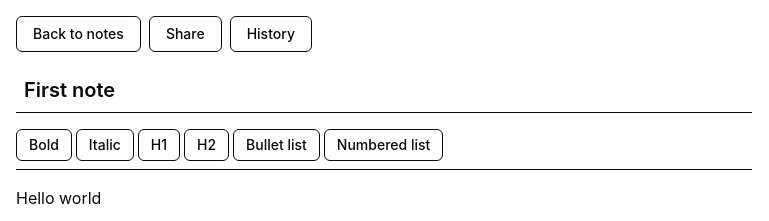
Scenario: NoteEditorPage › Status shows an error state if a save fails
This screenshot has width=769, height=221.
Type "!" into the field showing "First note" at (384, 90), box x1=16 y1=68 x2=752 y2=113
Wait 2500 ms
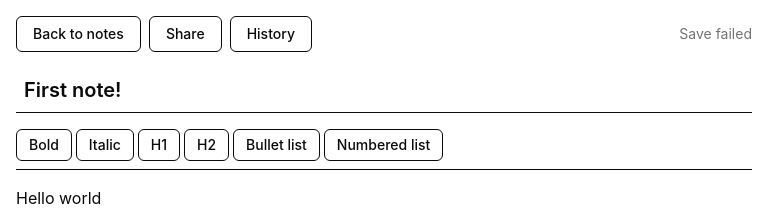
Now the text "Save failed" is shown, box x1=679 y1=24 x2=752 y2=44
